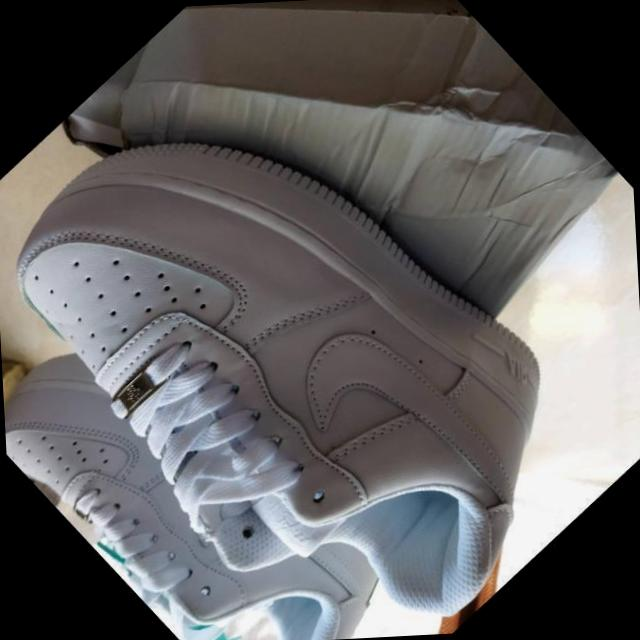nike_fake_airforce: (0, 6, 640, 640), (0, 264, 418, 640)
